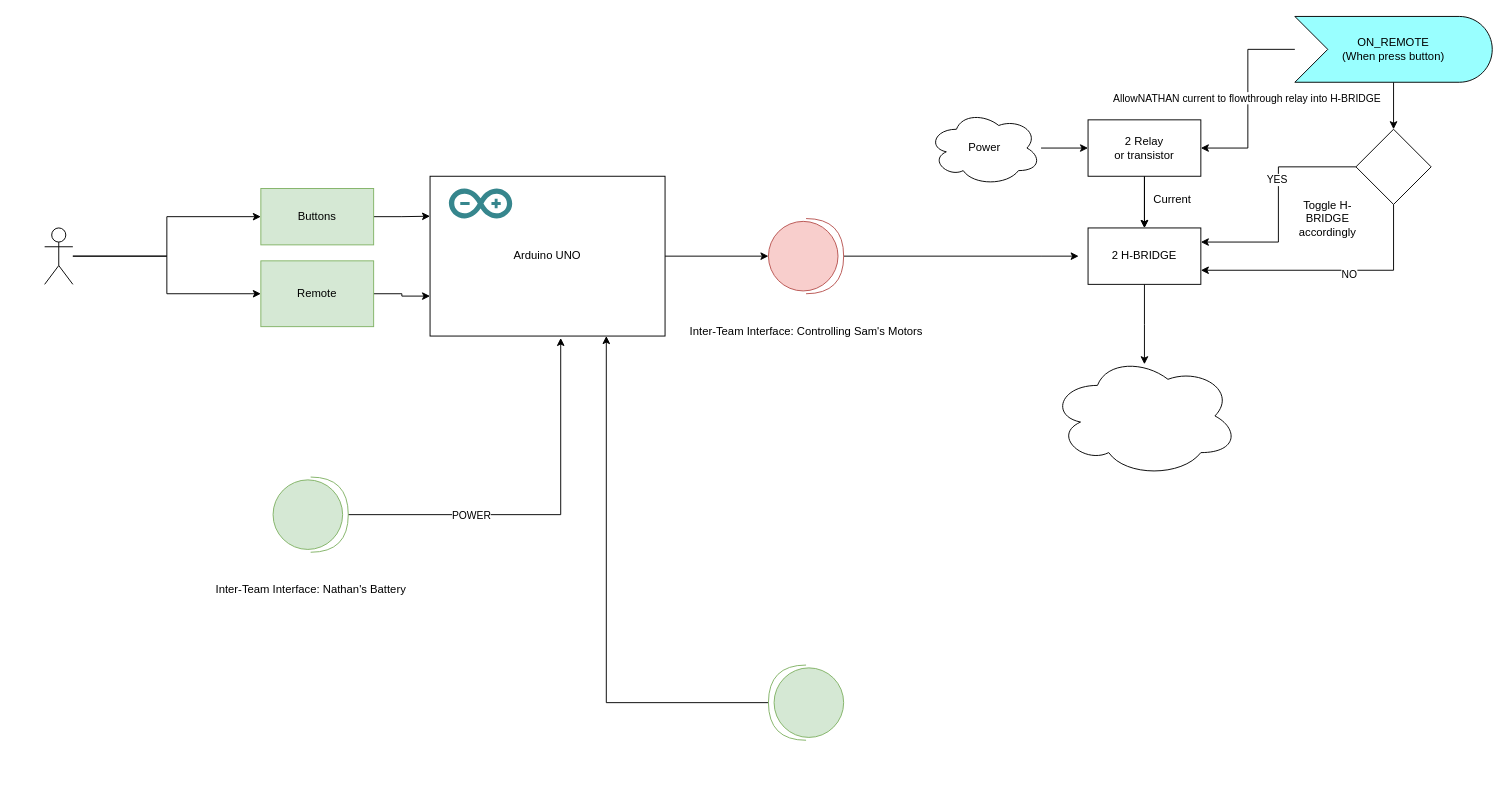
Some shapes in this 1509 by 801 pixel diagram are drawn without their labels. The shapes that lost their labels are listed below. From the top down, each one's centre as x and y in pixels, then its label:
(1393,166): IS_UP?
(58,255): Elderly Individual
(1144,415): Motors start turning and lifting elderly
(806,702): Inter-Team Interface: Data from rotations
